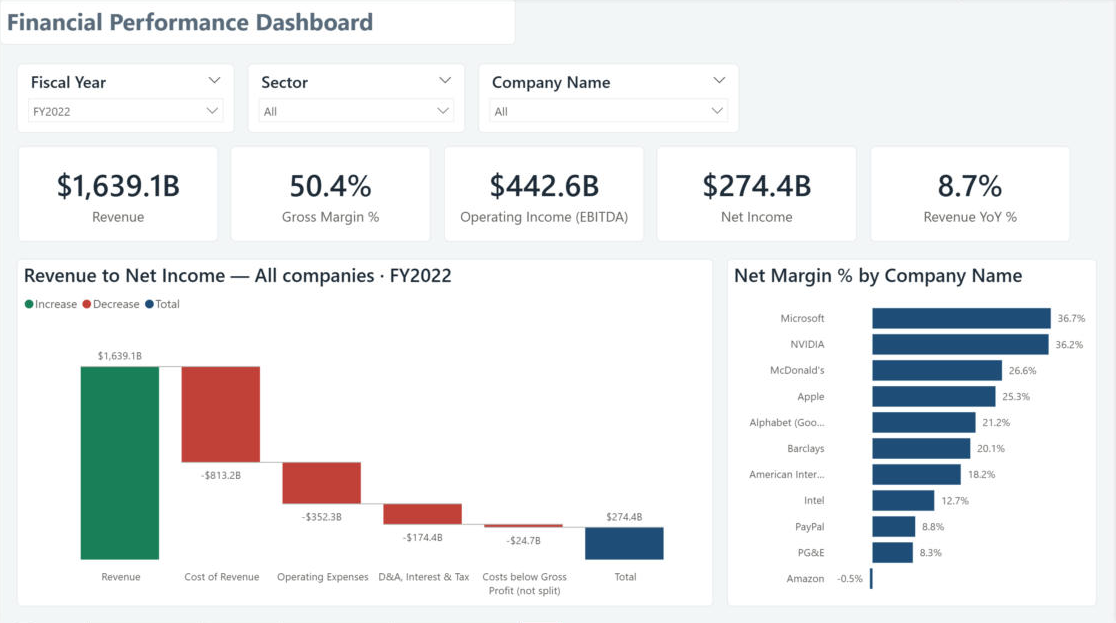

This screenshot's page, from the dashboard's own definition file:
{"tool":"powerbi","page":{"name":"P&L Overview","canvas":[1280,720],"ordinal":0},"visuals":[{"type":"textbox","box":[0,0,592.8,53.6],"z":0},{"type":"slicer","fields":{"Values":["DimYear.Fiscal Year"]},"box":[20,75,250,80],"z":1000},{"type":"slicer","fields":{"Values":["DimCompany.Sector Hierarchy.Sector"]},"box":[285,75,250,80],"z":2000},{"type":"slicer","fields":{"Values":["DimCompany.Sector Hierarchy.Company Name"]},"box":[550,75,300,80],"z":3000},{"type":"card","fields":{"Values":["_Measures.Revenue"]},"box":[20.3,170,230.4,110.1],"z":4000},{"type":"card","fields":{"Values":["_Measures.Gross Margin %"]},"box":[265,170,230.4,110.1],"z":5000},{"type":"card","fields":{"Values":["_Measures.Operating Income (EBITDA)"]},"box":[510,170,230.4,110.1],"z":5001},{"type":"card","fields":{"Values":["_Measures.Net Income"]},"box":[755,170,230.4,110.1],"z":5002},{"type":"card","fields":{"Values":["_Measures.Revenue YoY %"]},"box":[1000,170,230.4,110.1],"z":5003},{"type":"waterfallChart","fields":{"Category":["FactPLWaterfall.LineItem"],"Y":["_Measures.Waterfall Amount"]},"box":[20,300,800,400],"z":5004},{"type":"clusteredBarChart","fields":{"Category":["DimCompany.Sector Hierarchy.Company Name"],"Y":["_Measures.Net Margin %"]},"box":[835,300,425,400],"z":5005}]}

Visuals, with their boxes in screenshot pixels (x1, y1, x2, y2), scaled from the page's 1280x720 canvas onto the 1116x623 screenshot:
textbox: pyautogui.locateOnScreen(0, 0, 517, 46)
slicer - DimYear.Fiscal Year: pyautogui.locateOnScreen(17, 65, 235, 134)
slicer - DimCompany.Sector Hierarchy.Sector: pyautogui.locateOnScreen(248, 65, 466, 134)
slicer - DimCompany.Sector Hierarchy.Company Name: pyautogui.locateOnScreen(480, 65, 741, 134)
card - _Measures.Revenue: pyautogui.locateOnScreen(18, 147, 219, 242)
card - _Measures.Gross Margin %: pyautogui.locateOnScreen(231, 147, 432, 242)
card - _Measures.Operating Income (EBITDA): pyautogui.locateOnScreen(445, 147, 646, 242)
card - _Measures.Net Income: pyautogui.locateOnScreen(658, 147, 859, 242)
card - _Measures.Revenue YoY %: pyautogui.locateOnScreen(872, 147, 1073, 242)
waterfallChart - FactPLWaterfall.LineItem x _Measures.Waterfall Amount: pyautogui.locateOnScreen(17, 260, 715, 606)
clusteredBarChart - DimCompany.Sector Hierarchy.Company Name x _Measures.Net Margin %: pyautogui.locateOnScreen(728, 260, 1099, 606)
